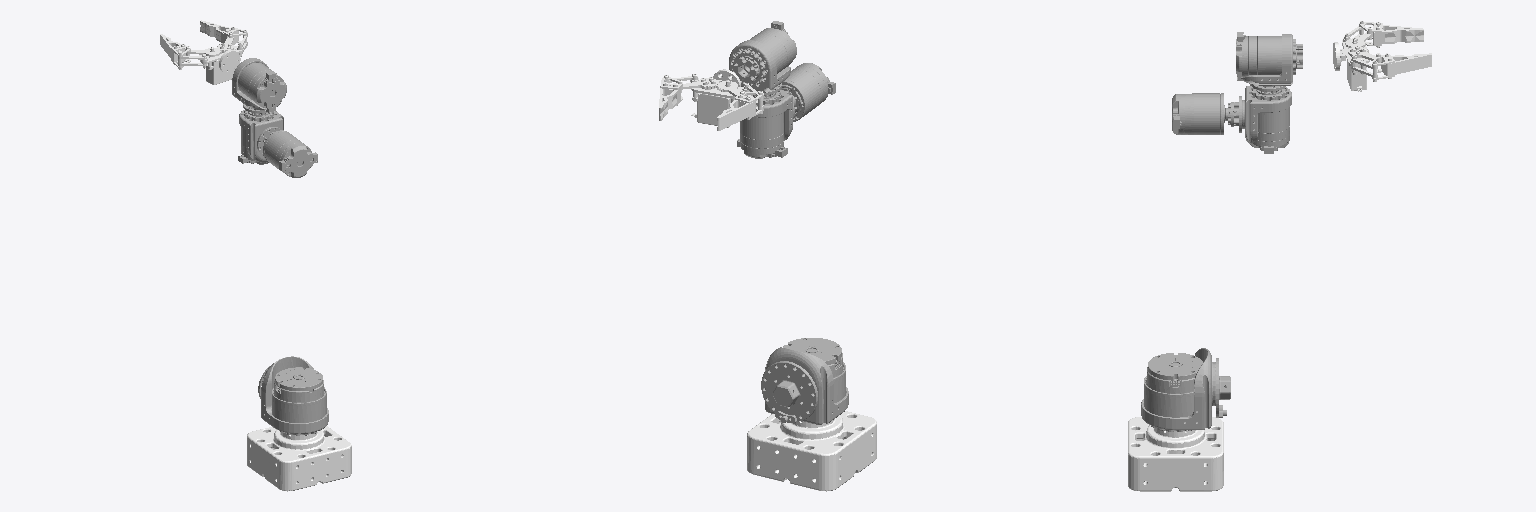
URDF robot description (gluon):
<?xml version="1.0" encoding="utf-8"?>
<!-- This URDF was automatically created by SolidWorks to URDF Exporter! Originally created by [author] ([email redacted]) 
     Commit Version: 1.5.1-0-g916b5db  Build Version: 1.5.7152.31018
     For more information, please see http://wiki.ros.org/sw_urdf_exporter -->
<robot
  name="gluon">
  <link
    name="dummy">
  </link>
  <link
    name="arm_base_link">
    <inertial>
      <origin
        xyz="1.08298711614602E-08 -1.33685151040018E-07 0.0340926649243798"
        rpy="0 0 0" />
      <mass
        value="50.0" />
      <inertia
        ixx="0.000642550795445817"
        ixy="-6.44153896689619E-10"
        ixz="-8.57452399640771E-11"
        iyy="0.000646116454497636"
        iyz="-5.69158950008839E-10"
        izz="0.00100379893000299" />
    </inertial>
    <visual>
      <origin
        xyz="0 0 0"
        rpy="0 0 0" />
      <geometry>
        <mesh
          filename="package://gluon_2l6_4l3/meshes/base_link.STL" />
      </geometry>
      <material
        name="">
        <color
          rgba="1 1 1 1" />
      </material>
    </visual>
    <collision>
      <origin
        xyz="0 0 0"
        rpy="0 0 0" />
      <geometry>
        <mesh
          filename="package://gluon_2l6_4l3/meshes/base_link.STL" />
      </geometry>
    </collision>
  </link>
  <joint
    name="dummy_joint"
    type="fixed">
    <origin
        xyz="0 0 0"
        rpy="0 0 0" />
    <parent
        link="dummy" />
    <child
        link="arm_base_link" />
  </joint>
  <link
    name="1_Link">
    <inertial>
      <origin
        xyz="5.94691918841939E-06 0.0104803388570644 0.0376119901331065"
        rpy="0 0 0" />
      <mass
        value="0.427521097426284" />
      <inertia
        ixx="0.000293971741300877"
        ixy="-3.43259978881177E-09"
        ixz="-6.30467392358733E-09"
        iyy="0.000317898767049243"
        iyz="3.0433390963949E-05"
        izz="0.000354069270405058" />
    </inertial>
    <visual>
      <origin
        xyz="0 0 0"
        rpy="0 0 0" />
      <geometry>
        <mesh
          filename="package://gluon_2l6_4l3/meshes/1_Link.STL" />
      </geometry>
      <material
        name="">
        <color
          rgba="0.752941176470588 0.752941176470588 0.752941176470588 1" />
      </material>
    </visual>
    <collision>
      <origin
        xyz="0 0 0"
        rpy="0 0 0" />
      <geometry>
        <mesh
          filename="package://gluon_2l6_4l3/meshes/1_Link.STL" />
      </geometry>
    </collision>
  </link>
  <joint
    name="axis_joint_1"
    type="revolute">
    <origin
      xyz="2.1826E-05 0.00012918 0.1473"
      rpy="-3.1399 -0.00029439 3.1416" />
    <parent
      link="arm_base_link" />
    <child
      link="1_Link" />
    <axis
      xyz="0 0 1" />
    <limit
      lower="-2.79"
      upper="2.79"
      effort="60"
      velocity="3.14" />
  </joint>
  <link
    name="2_Link">
    <inertial>
      <origin
        xyz="-2.41062243940623E-05 0.0288544339816703 0.0390902794575184"
        rpy="0 0 0" />
      <mass
        value="0.532632056370352" />
      <inertia
        ixx="0.000335781996057239"
        ixy="7.74651050912795E-09"
        ixz="-2.64170440746544E-08"
        iyy="0.00035381370099959"
        iyz="2.47991080525677E-05"
        izz="0.000401476947821589" />
    </inertial>
    <visual>
      <origin
        xyz="0 0 0"
        rpy="0 0 0" />
      <geometry>
        <mesh
          filename="package://gluon_2l6_4l3/meshes/2_Link.STL" />
      </geometry>
      <material
        name="">
        <color
          rgba="0.752941176470588 0.752941176470588 0.752941176470588 1" />
      </material>
    </visual>
    <collision>
      <origin
        xyz="0 0 0"
        rpy="0 0 0" />
      <geometry>
        <mesh
          filename="package://gluon_2l6_4l3/meshes/2_Link.STL" />
      </geometry>
    </collision>
  </link>
  <joint
    name="axis_joint_2"
    type="revolute">
    <origin
      xyz="0 0.14323 0.031681"
      rpy="-1.5691 0.00029439 3.1416" />
    <parent
      link="1_Link" />
    <child
      link="2_Link" />
    <axis
      xyz="0 0 1" />
    <limit
      lower="-1.54"
      upper="1.54"
      effort="60"
      velocity="3.14" />
  </joint>
  <link
    name="3_Link">
    <inertial>
      <origin
        xyz="-6.49909041853073E-06 0.0564812397610859 0.0887660548353829"
        rpy="0 0 0" />
      <mass
        value="0.162794440967229" />
      <inertia
        ixx="6.84457022116735E-05"
        ixy="-7.54019535975105E-09"
        ixz="1.63671535404294E-08"
        iyy="6.51788149639004E-05"
        iyz="-6.68108090429374E-10"
        izz="7.45976980377889E-05" />
    </inertial>
    <visual>
      <origin
        xyz="0 0 0"
        rpy="0 0 0" />
      <geometry>
        <mesh
          filename="package://gluon_2l6_4l3/meshes/3_Link.STL" />
      </geometry>
      <material
        name="">
        <color
          rgba="0.752941176470588 0.752941176470588 0.752941176470588 1" />
      </material>
    </visual>
    <collision>
      <origin
        xyz="0 0 0"
        rpy="0 0 0" />
      <geometry>
        <mesh
          filename="package://gluon_2l6_4l3/meshes/3_Link.STL" />
      </geometry>
    </collision>
  </link>
  <joint
    name="axis_joint_3"
    type="revolute">
    <origin
      xyz="0 0.20365 -0.01145"
      rpy="0.00026748 -0.00024956 0" />
    <parent
      link="2_Link" />
    <child
      link="3_Link" />
    <axis
      xyz="0 0 -1" />
    <limit
      lower="-2.79"
      upper="2.79"
      effort="30"
      velocity="3.14" />
  </joint>
  <link
    name="4_Link">
    <inertial>
      <origin
        xyz="-4.93351505037348E-06 0.00320295907765528 0.0675880397468404"
        rpy="0 0 0" />
      <mass
        value="0.0930789748415233" />
      <inertia
        ixx="3.41747626336674E-05"
        ixy="-9.27553682919218E-09"
        ixz="6.48201613460666E-09"
        iyy="3.26912497760121E-05"
        iyz="-5.62439398001095E-06"
        izz="4.39477632977431E-05" />
    </inertial>
    <visual>
      <origin
        xyz="0 0 0"
        rpy="0 0 0" />
      <geometry>
        <mesh
          filename="package://gluon_2l6_4l3/meshes/4_Link.STL" />
      </geometry>
      <material
        name="">
        <color
          rgba="0.752941176470588 0.752941176470588 0.752941176470588 1" />
      </material>
    </visual>
    <collision>
      <origin
        xyz="0 0 0"
        rpy="0 0 0" />
      <geometry>
        <mesh
          filename="package://gluon_2l6_4l3/meshes/4_Link.STL" />
      </geometry>
    </collision>
  </link>
  <joint
    name="axis_joint_4"
    type="revolute">
    <origin
      xyz="0 0.17304 0.15565"
      rpy="-3.141 2.0809E-05 -3.1416" />
    <parent
      link="3_Link" />
    <child
      link="4_Link" />
    <axis
      xyz="0 0 -1" />
    <limit
      lower="-2.79"
      upper="2.79"
      effort="30"
      velocity="3.14" />
  </joint>
  <link
    name="5_Link">
    <inertial>
      <origin
        xyz="-4.9338950072391E-06 0.00320295910744277 0.0675880425151844"
        rpy="0 0 0" />
      <mass
        value="0.0930789687794842" />
      <inertia
        ixx="3.41747601551271E-05"
        ixy="-9.27640728545079E-09"
        ixz="6.4816967198114E-09"
        iyy="3.26912502240854E-05"
        iyz="-5.62439422790923E-06"
        izz="4.3947761826154E-05" />
    </inertial>
    <visual>
      <origin
        xyz="0 0 0"
        rpy="0 0 0" />
      <geometry>
        <mesh
          filename="package://gluon_2l6_4l3/meshes/5_Link.STL" />
      </geometry>
      <material
        name="">
        <color
          rgba="0.752941176470588 0.752941176470588 0.752941176470588 1" />
      </material>
    </visual>
    <collision>
      <origin
        xyz="0 0 0"
        rpy="0 0 0" />
      <geometry>
        <mesh
          filename="package://gluon_2l6_4l3/meshes/5_Link.STL" />
      </geometry>
    </collision>
  </link>
  <joint
    name="axis_joint_5"
    type="revolute">
    <origin
      xyz="-1.3631E-05 -0.03824 0.11749"
      rpy="1.5714 -0.00027022 3.1413" />
    <parent
      link="4_Link" />
    <child
      link="5_Link" />
    <axis
      xyz="0 0 -1" />
    <limit
      lower="-2.79"
      upper="2.79"
      effort="30"
      velocity="3.14" />
  </joint>
  <link
    name="6_Link">
    <inertial>
      <origin
        xyz="-2.33928487419888E-05 -3.68656639571086E-05 0.0390479300398403"
        rpy="0 0 0" />
      <mass
        value="0.0479280254878523" />
      <inertia
        ixx="1.13926937271612E-05"
        ixy="-7.31066802665079E-09"
        ixz="3.76982466070197E-09"
        iyy="1.08655019793413E-05"
        iyz="-3.24671694008493E-09"
        izz="1.87594034150506E-05" />
    </inertial>
    <visual>
      <origin
        xyz="0 0 0"
        rpy="0 1.57079 0" />
      <geometry>
        <mesh
          filename="package://gluon_2l6_4l3/meshes/6_Link.STL" />
      </geometry>
      <material
        name="">
        <color
          rgba="0.752941176470588 0.752941176470588 0.752941176470588 1" />
      </material>
    </visual>
    <collision>
      <origin
        xyz="0 0 0"
        rpy="0 0 0" />
      <geometry>
        <mesh
          filename="package://gluon_2l6_4l3/meshes/6_Link.STL" />
      </geometry>
    </collision>
  </link>
  <joint
    name="axis_joint_6"
    type="revolute">
    <origin
      xyz="-1.3631E-05 -0.03824 0.11749"
      rpy="0 -0.00027037 1.57079" />
    <parent
      link="5_Link" />
    <child
      link="6_Link" />
    <axis
      xyz="1 0 0" />
    <limit
      lower="-2.79"
      upper="2.79"
      effort="30"
      velocity="3.14" />
  </joint>

  <link name="end_link" />
    <joint name="end_link_joint" type="fixed">
        <origin rpy="0 -0.00027037 1.5711" xyz="-1.3631E-05 -0.03824 0.11749" />
        <parent link="5_Link" />
        <child link="end_link" />
        <axis xyz="0 0 0" />
    </joint>

 <link name="camera" />
    <joint name="camera_end_joint" type="fixed">
        <origin rpy="0 0 0" xyz="0.05 0.01 0.05" />
        <parent link="end_link" />
        <child link="camera" />
        <axis xyz="0 0 0" />
    </joint>

   <link name="grasp_frame" />
    <joint name="grasp_frame_joint" type="fixed">
        <origin rpy="0 0 0" xyz="0.13 0 0" />
        <parent link="6_Link" />
        <child link="grasp_frame" />
        <axis xyz="0 0 0" />
    </joint>
   
    <joint name="arm_hand_joint" type="revolute">
        <origin xyz="-0.01 0 0" rpy="0 0 0" />
        <parent link="grasp_frame" />
        <child link="hand_link" />
        <axis xyz="-1 0 0" />
        <limit lower="-2.79" upper="2.79" effort="30" velocity="3.14" />
    </joint>

    <link
    name="hand_link">
    <inertial>
      <origin xyz="0.040745 0.0045076 -0.0046969" rpy="0 0 0" />
      <mass value="0.080435" />
      <inertia
        ixx="1.3945E-05"
        ixy="-3.2513E-08"
        ixz="-7.1325E-09"
        iyy="1.3972E-05"
        iyz="4.6346E-10"
        izz="1.7599E-05" />
    </inertial>
    <visual>
      <origin
        xyz="0 0 0"
        rpy="0 0 0" />
      <geometry>
        <mesh
          filename="package://gluon_2l6_4l3/meshes/hand_link.STL" />
      </geometry>
      <material
        name="">
        <color
          rgba="1 1 1 1" />
      </material>
    </visual>
    <collision>
      <origin
        xyz="0 0 0"
        rpy="0 0 0" />
      <geometry>
        <mesh
          filename="package://gluon_2l6_4l3/meshes/hand_link.STL" />
      </geometry>
    </collision>
  </link> 

</robot>

--- Facts derived from the render (not from the file) ---
Views: 3 orthographic renders of the robot side by side, from view 1: azimuth 30°, elevation 25°; view 2: azimuth 150°, elevation 25°; view 3: azimuth 270°, elevation 25°.
Model gluon with 12 links and 11 joints (7 revolute, 4 fixed), rooted at dummy, posed every joint at zero.
Visible links, largest first — view 1: arm_base_link, 1_Link, 4_Link, hand_link, 6_Link, 5_Link; view 2: arm_base_link, 1_Link, hand_link, 5_Link, 4_Link, 6_Link; view 3: arm_base_link, 1_Link, 4_Link, hand_link, 5_Link, 6_Link.
Boxes of the visible links, x1=… form: arm_base_link: x1=247, y1=426, x2=351, y2=491; 1_Link: x1=258, y1=356, x2=328, y2=435; 4_Link: x1=239, y1=110, x2=317, y2=177; hand_link: x1=160, y1=20, x2=247, y2=84; 6_Link: x1=238, y1=63, x2=286, y2=112; 5_Link: x1=232, y1=58, x2=281, y2=164; arm_base_link: x1=747, y1=411, x2=876, y2=491; 1_Link: x1=761, y1=338, x2=848, y2=424; hand_link: x1=659, y1=69, x2=763, y2=130; 5_Link: x1=729, y1=40, x2=790, y2=158; 4_Link: x1=754, y1=63, x2=835, y2=140; 6_Link: x1=733, y1=21, x2=796, y2=82; arm_base_link: x1=1128, y1=417, x2=1223, y2=491; 1_Link: x1=1141, y1=348, x2=1230, y2=431; 4_Link: x1=1172, y1=84, x2=1291, y2=143; hand_link: x1=1333, y1=21, x2=1431, y2=91; 5_Link: x1=1241, y1=34, x2=1295, y2=153; 6_Link: x1=1236, y1=32, x2=1302, y2=80.
Bounding box of the posed robot: 0.1289 × 0.3803 × 0.6019 m (x, y, z).
6 mesh visuals loaded from 8 distinct referenced files (6 binary STL); not drawn: 2 (reference not matched to a file when rendering).